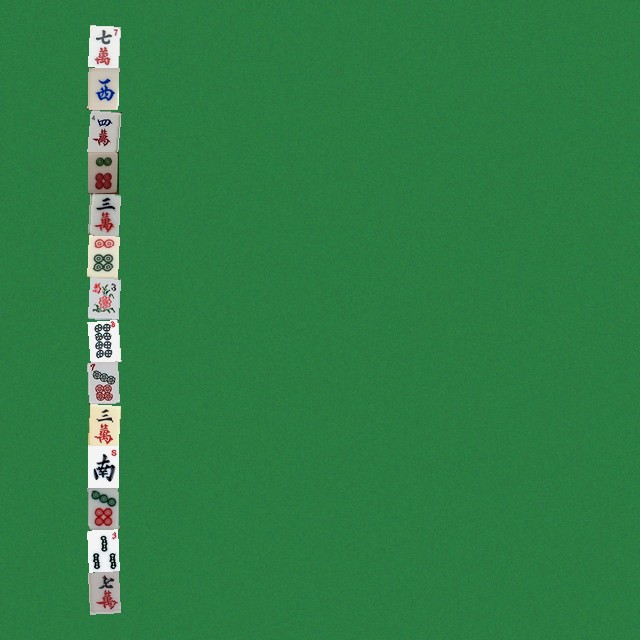tile: (87, 25, 118, 67), (87, 67, 118, 109), (87, 109, 118, 151), (87, 151, 118, 193), (87, 193, 118, 235), (87, 235, 118, 277), (87, 277, 118, 319), (87, 319, 118, 361), (87, 361, 118, 403), (87, 403, 118, 445), (87, 445, 118, 487), (87, 487, 118, 529), (87, 529, 118, 571), (87, 571, 118, 613)
